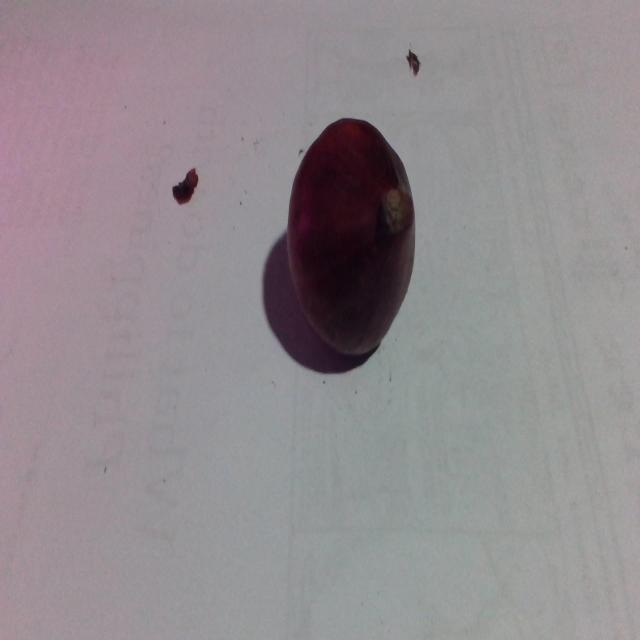onion: (284, 102, 418, 374)
